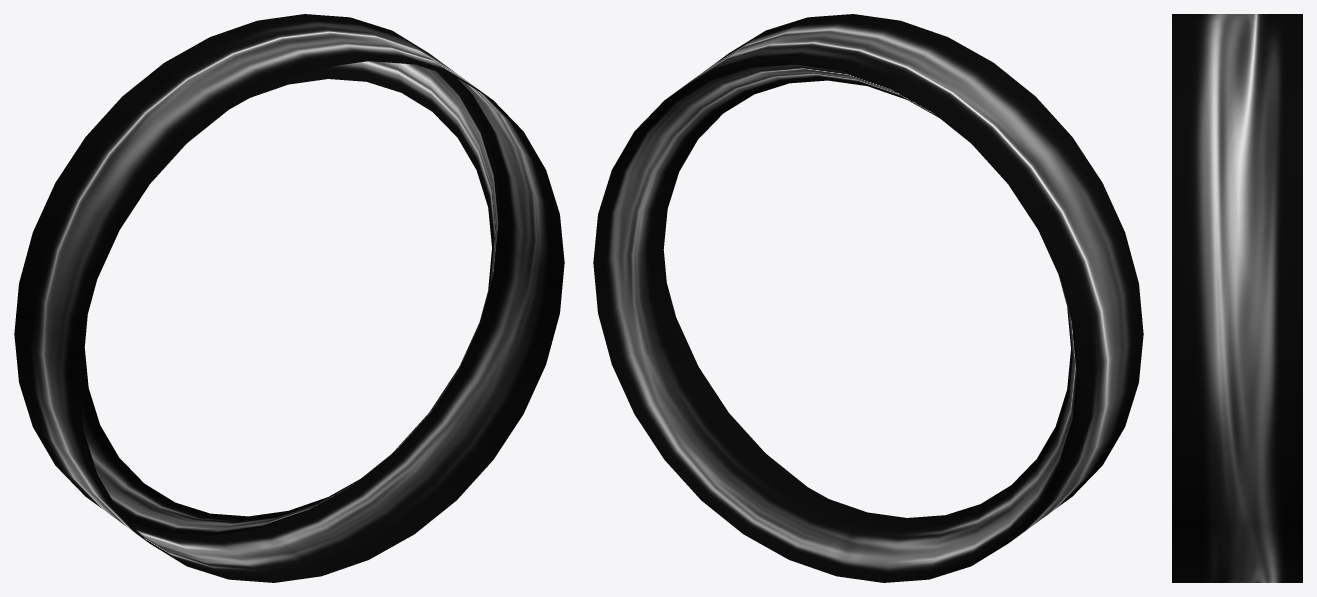
File: Trail_Cone_Cut.fbx
The picture shows the model from 3 angles, left to right: view 1: azimuth 30°, elevation 25°; view 2: azimuth 150°, elevation 25°; view 3: azimuth 270°, elevation 25°; orthographic projection.
Parts seen in each view (by area): view 1: Cylinder, Cone_Cut_Trail; view 2: Cone_Cut_Trail, Cylinder; view 3: Cylinder.
Part boxes in pixels (<box>): Cylinder: <box>14,14,564,582</box>; Cone_Cut_Trail: <box>78,61,500,535</box>; Cone_Cut_Trail: <box>593,61,1079,582</box>; Cylinder: <box>667,14,1143,542</box>; Cylinder: <box>1172,14,1302,582</box>.
Bounding box in the file's own units: 200 × 200 × 45.91.
